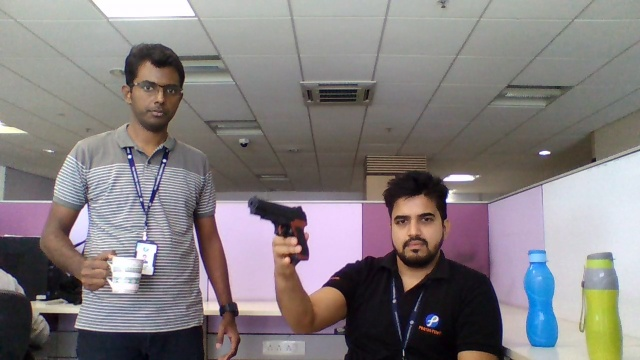gun: (248, 195, 307, 233)
